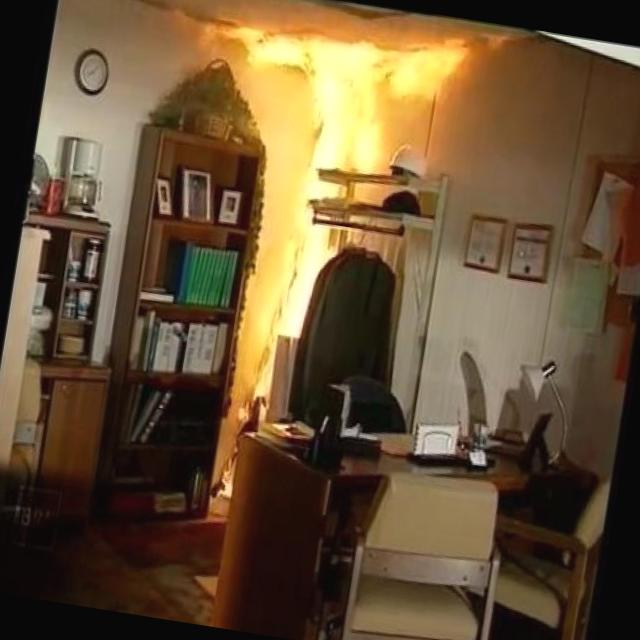fire: (222, 11, 440, 210)
